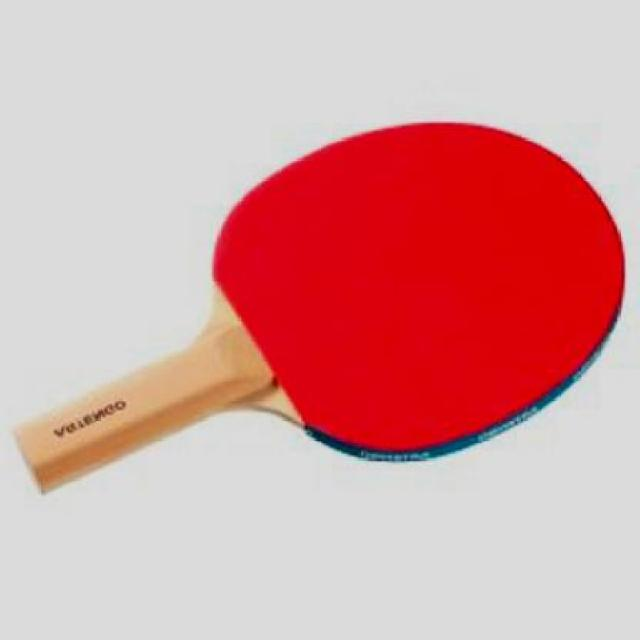table_tennis_racket: (207, 117, 630, 465)
